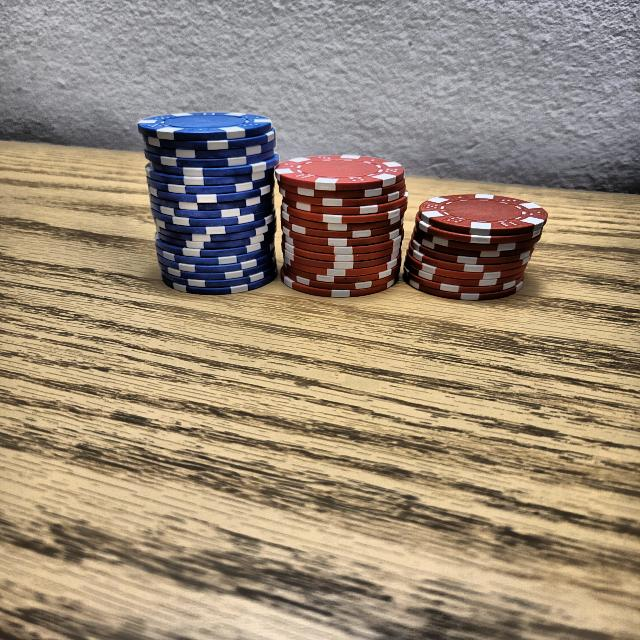Chip: (136, 97, 276, 309), (274, 135, 406, 313), (402, 178, 554, 310)
